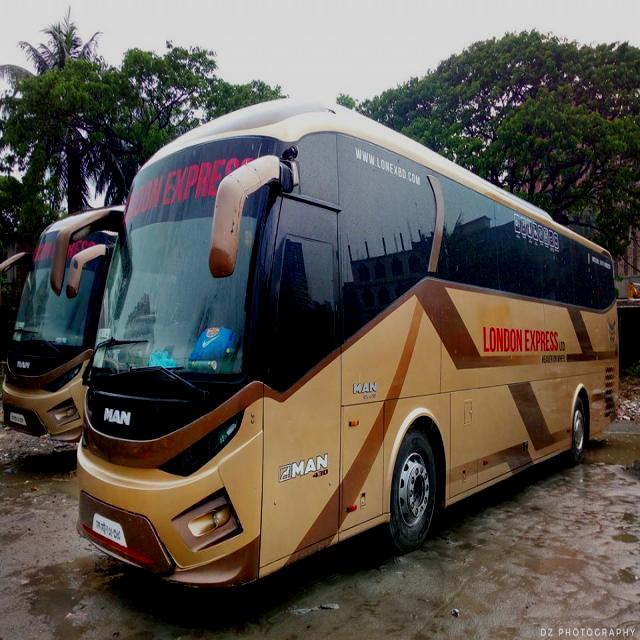bus: (48, 96, 622, 594)
